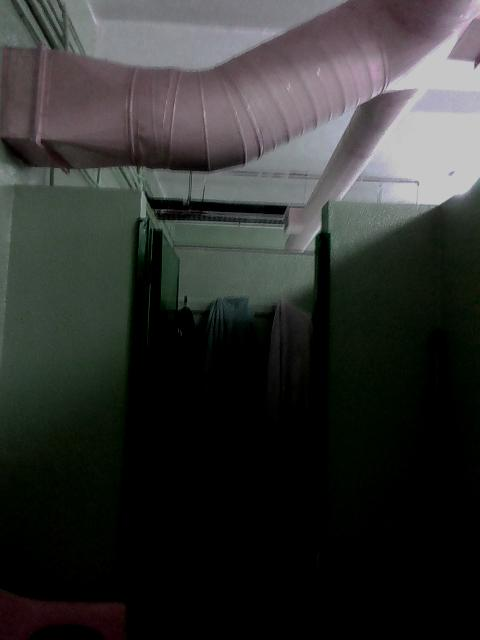open_door: (120, 188, 330, 638)
